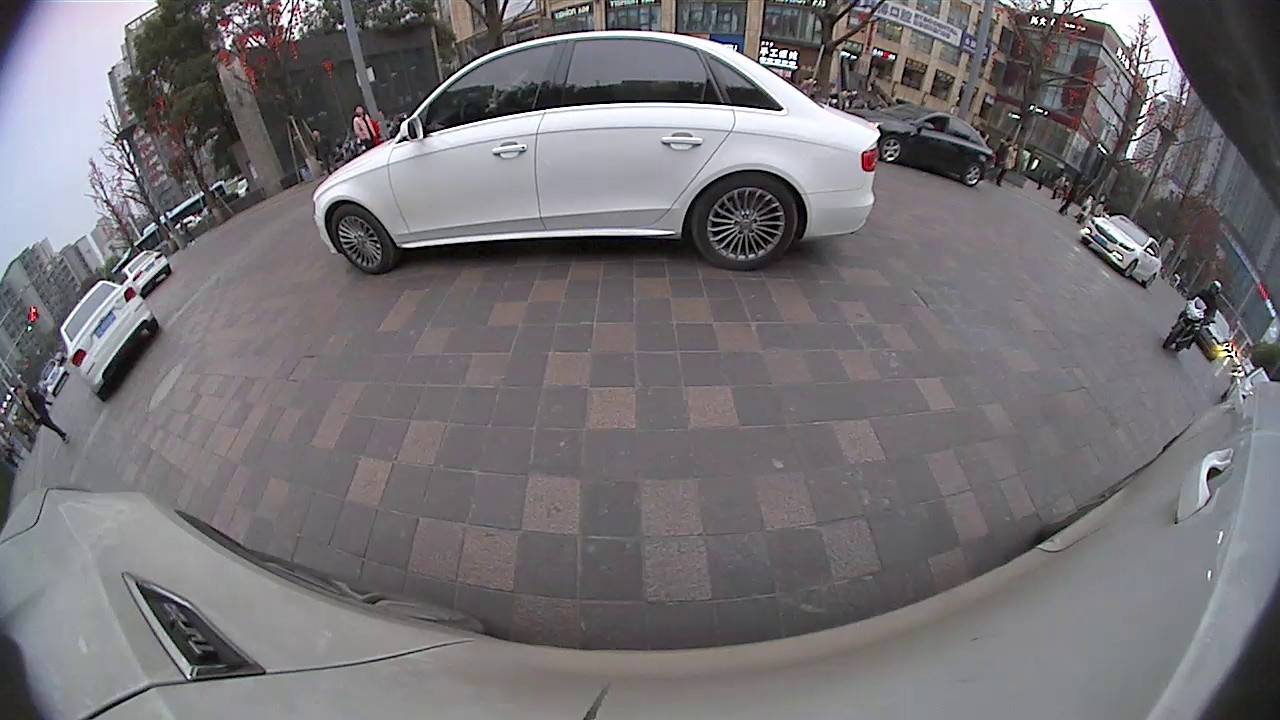car: (308, 28, 882, 274), (55, 275, 160, 403), (867, 102, 999, 189), (1078, 211, 1165, 292), (118, 247, 171, 299)
front: (323, 202, 398, 277)
rear: (686, 167, 802, 275)
rider: (1161, 275, 1225, 357)
